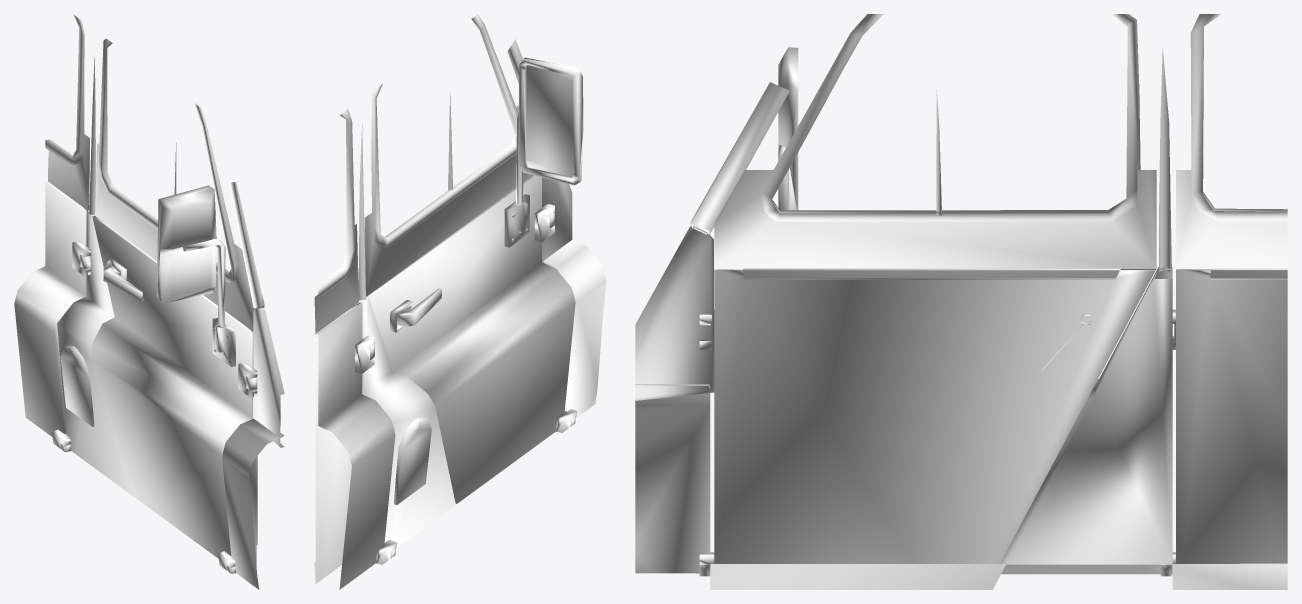
The picture shows the model from 3 angles, left to right: view 1: azimuth 30°, elevation 25°; view 2: azimuth 150°, elevation 25°; view 3: azimuth 270°, elevation 25°; orthographic projection. The views are drawn at different scales.
Size of the model in its own units: 0.1916 by 1.09 by 1.12.
1 material, 1 textured.
